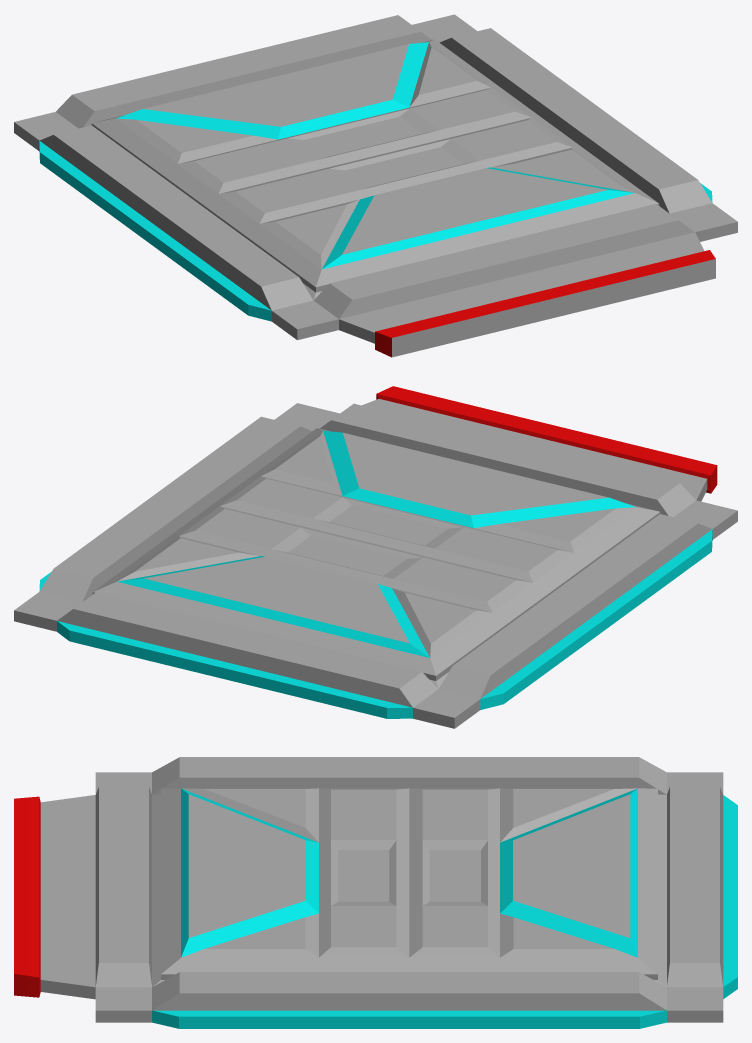
Rendered from Lift_Floor.fbx.
3 views of the same model, one above another, from view 1: azimuth 30°, elevation 25°; view 2: azimuth 150°, elevation 25°; view 3: azimuth 270°, elevation 25° (orthographic). The views are drawn at different scales.
Parts seen in each view (by area): view 1: Elevator_Floor_Tall; view 2: Elevator_Floor_Tall; view 3: Elevator_Floor_Tall.
Part boxes in pixels (x1,y1,x2,y2): Elevator_Floor_Tall: (14, 14, 737, 357); Elevator_Floor_Tall: (14, 386, 737, 728); Elevator_Floor_Tall: (14, 757, 737, 1028).
Size of the model in its own units: 5.88 by 7.18 by 0.4584.
